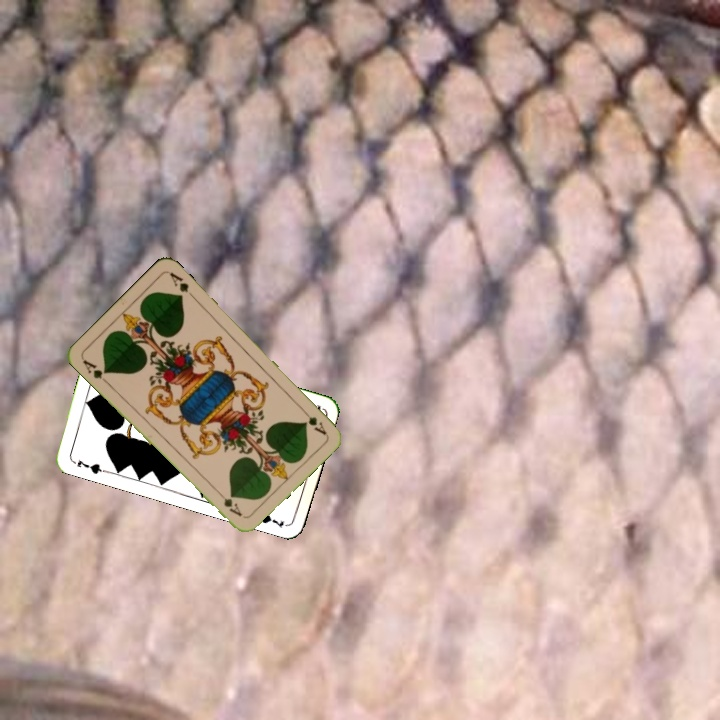G7: (73, 455, 108, 477)
GA: (297, 404, 329, 438), (79, 356, 112, 387)
